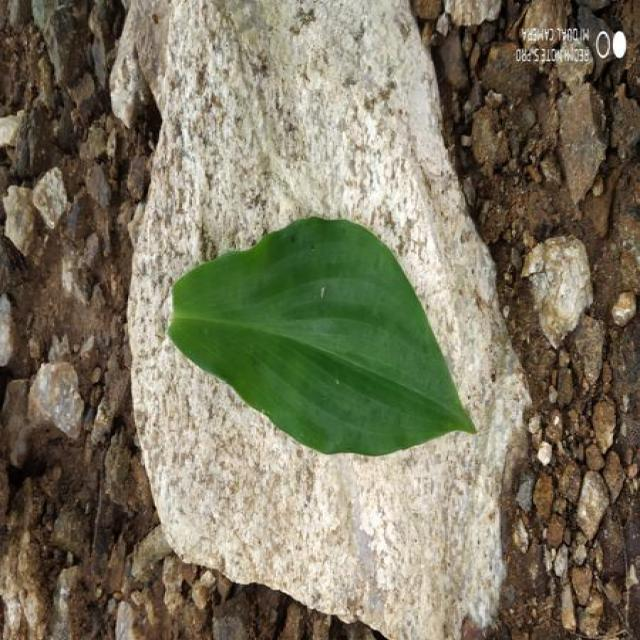insulin: (168, 219, 475, 456)
